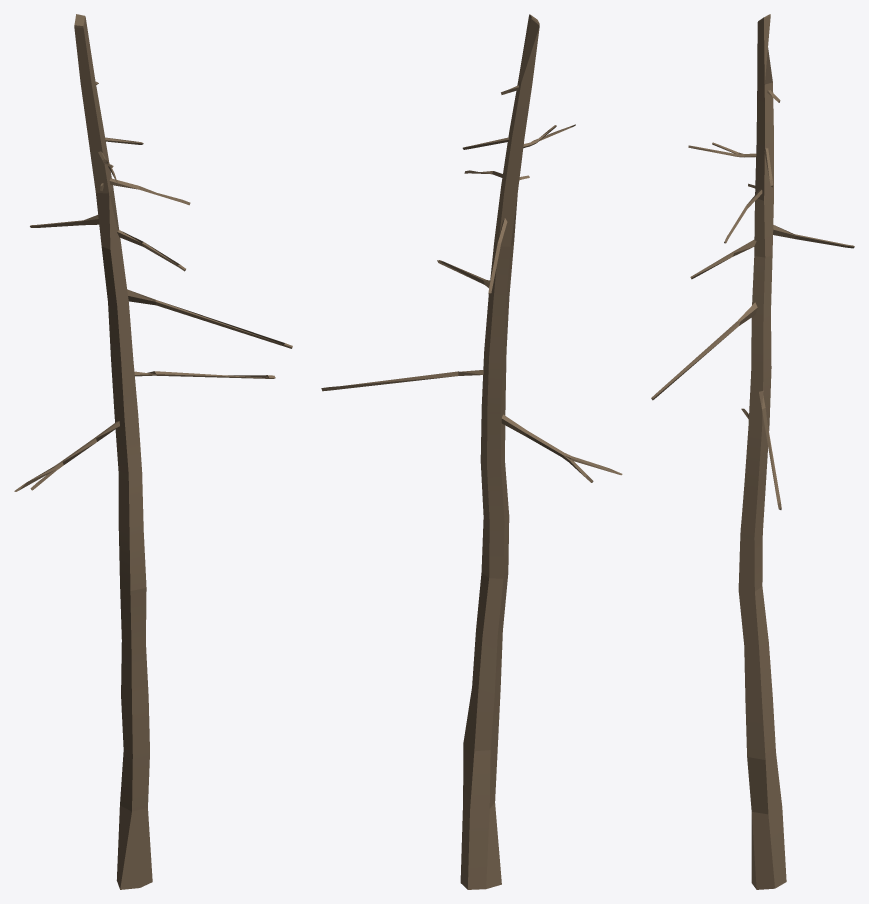
The model's file is pine_bare_15.FBX.
The picture shows the model from 3 angles, left to right: view 1: azimuth 30°, elevation 25°; view 2: azimuth 150°, elevation 25°; view 3: azimuth 270°, elevation 25°; orthographic projection. The views are drawn at different scales.
Parts seen in each view (by area): view 1: pine_bare_15; view 2: pine_bare_15; view 3: pine_bare_15.
Part boxes in pixels (box(x1,y1,x2,y2)): pine_bare_15: box(14, 14, 292, 889); pine_bare_15: box(321, 14, 622, 889); pine_bare_15: box(651, 14, 854, 889).
Bounding box in the file's own units: 2.47 × 7.43 × 1.63.
